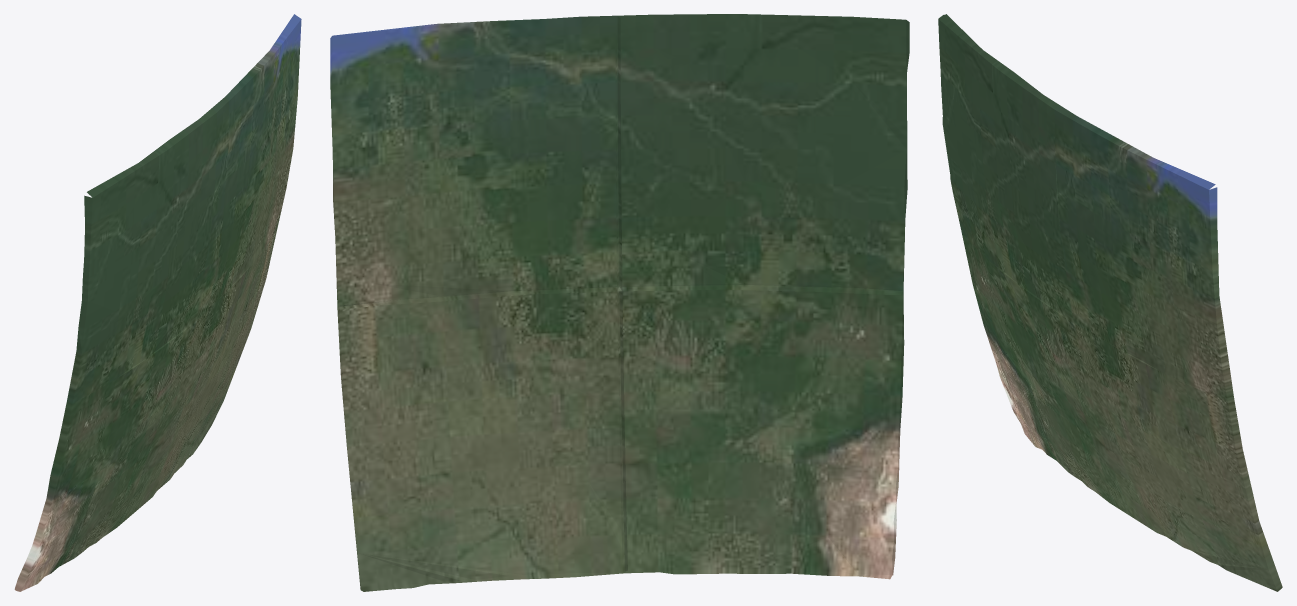
3 views of the same model, side by side, from view 1: azimuth 30°, elevation 25°; view 2: azimuth 150°, elevation 25°; view 3: azimuth 270°, elevation 25° (orthographic). The views are drawn at different scales.
Bounding box in the file's own units: 2278198 × 2461072 × 1762579.
Materials: 1 (1 with a texture image).
